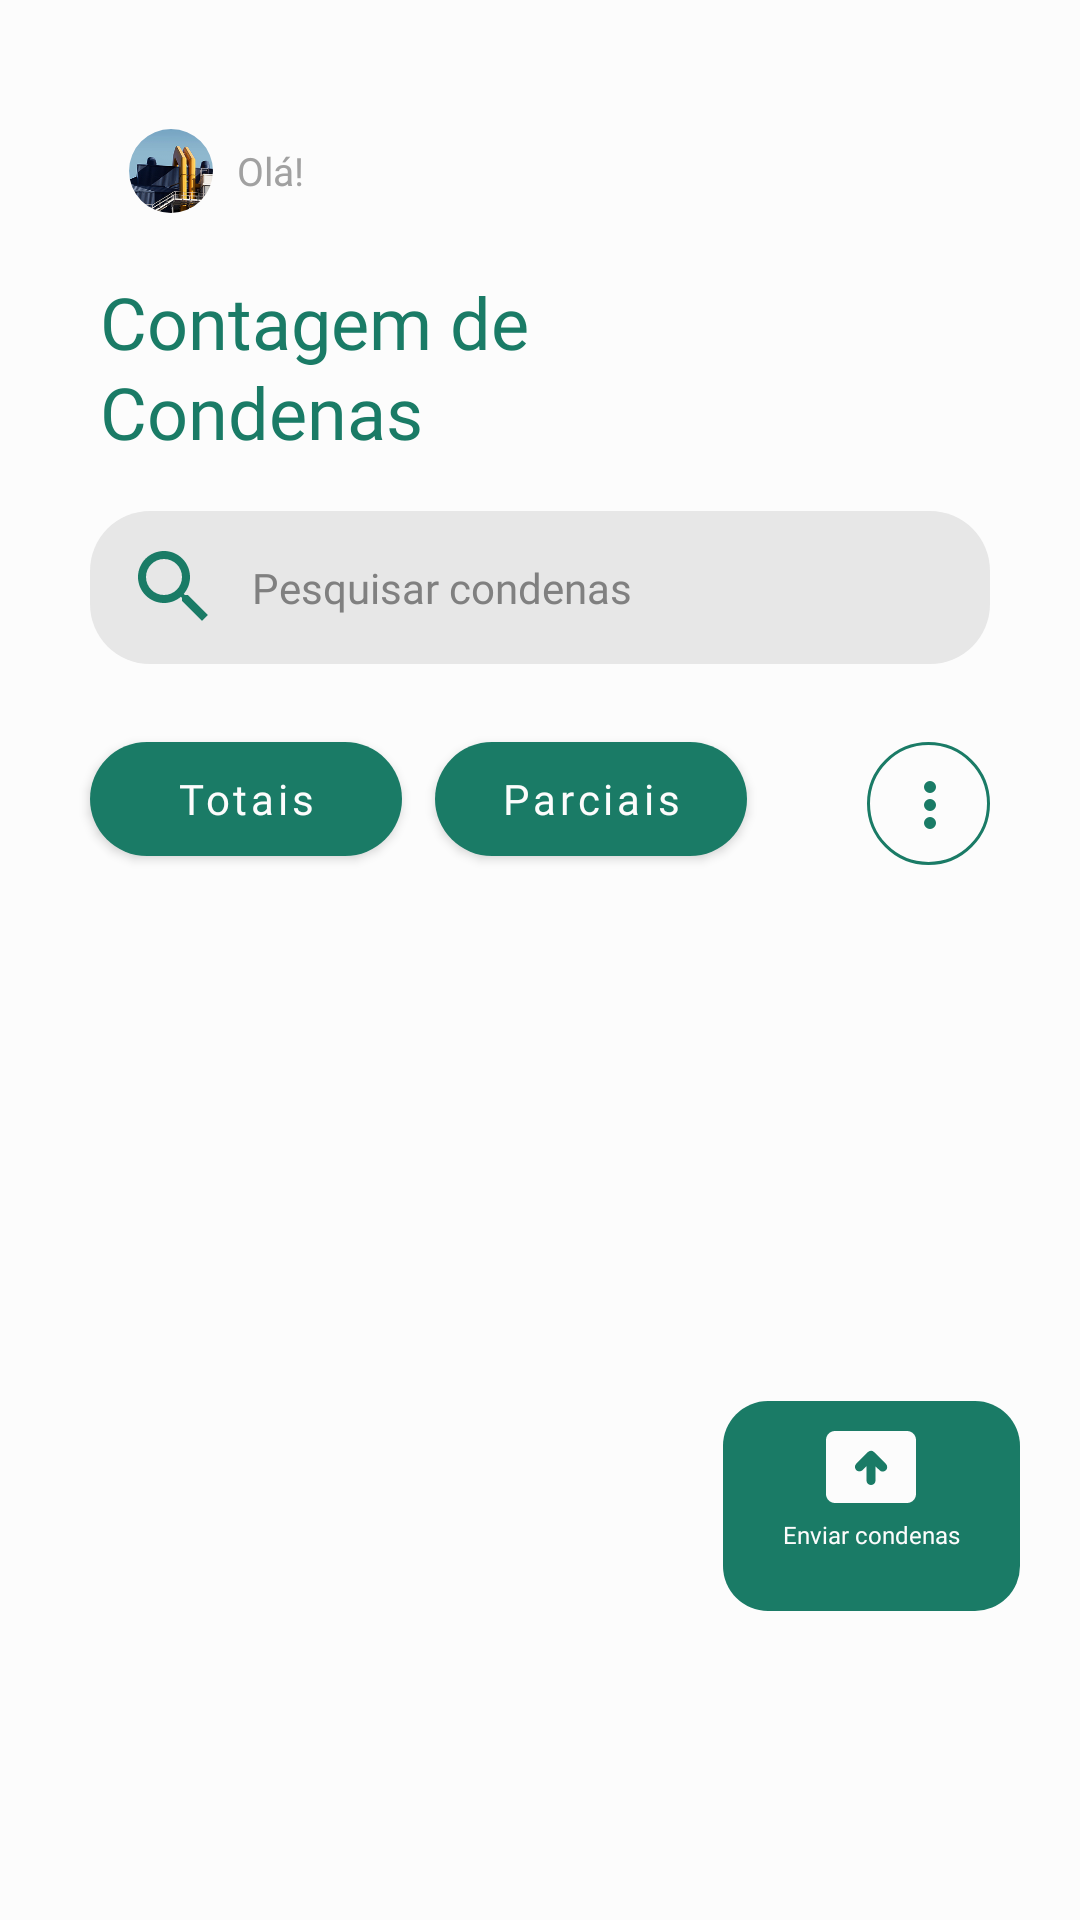

Icon click points for this 1080x1920 phone screenshot, format point (x, y):
fotoperfil: point (171, 171)
opcoes: point (928, 803)
